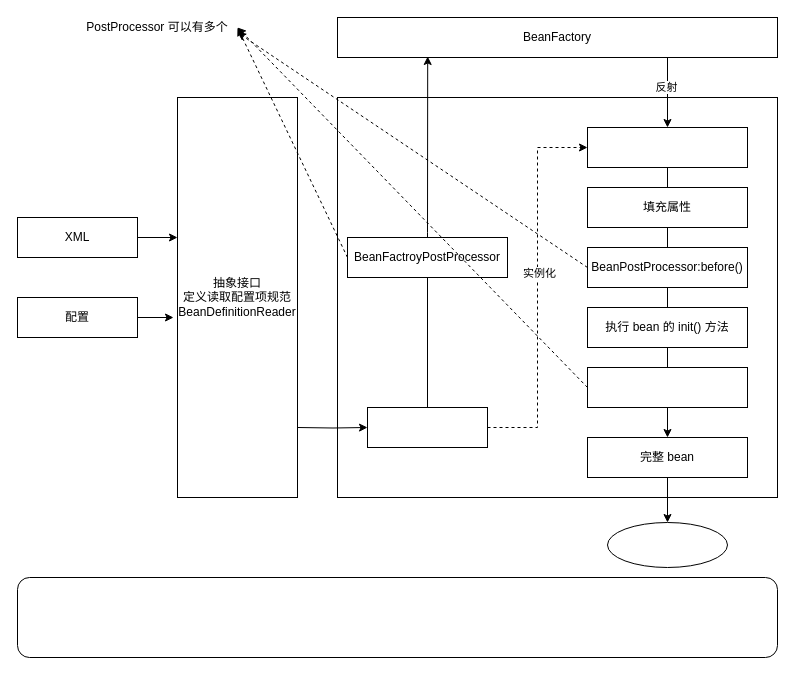
This 795x675 diagram has some shape labels left out. Here are the shapes that lost their labels. From the top down, the box of each, then its label:
(586, 126, 748, 168): 实例化 bean
(586, 366, 748, 408): BeanPostProcessor:after()
(366, 406, 488, 448): bean 元数据信息 BeanDefinition
(606, 522, 728, 568): getBean()
(16, 576, 778, 658): Environment，Listener
